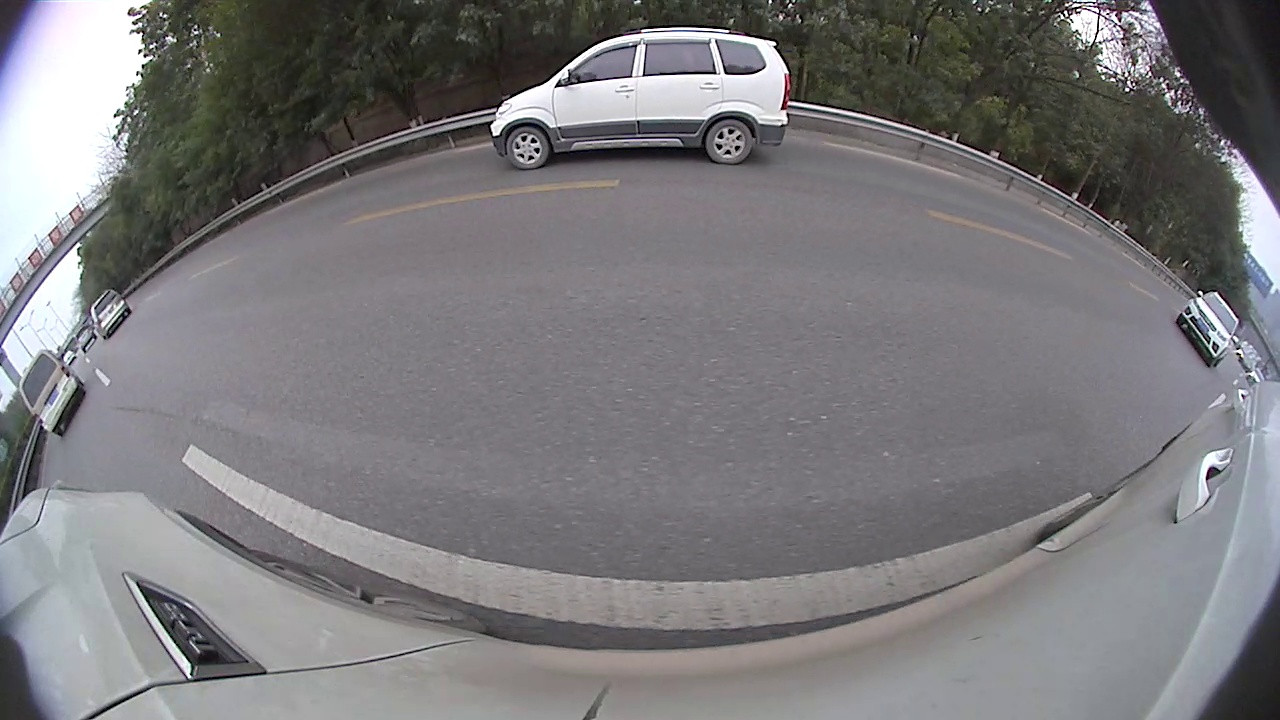car: (487, 25, 792, 171), (18, 349, 87, 438), (1175, 289, 1242, 370), (89, 288, 132, 341), (75, 324, 98, 354)
front: (508, 129, 548, 169)
rear: (708, 120, 752, 164)
